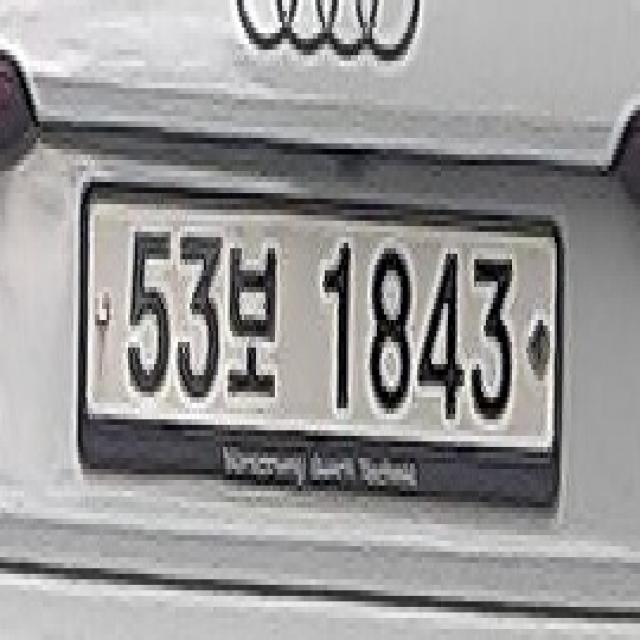1: (322, 226, 358, 425)
3: (467, 243, 529, 414), (175, 188, 218, 402)
4: (415, 215, 469, 447)
5: (123, 188, 173, 414)
8: (362, 226, 420, 436)
bo: (220, 221, 284, 397)
license_plate: (74, 182, 572, 541)
